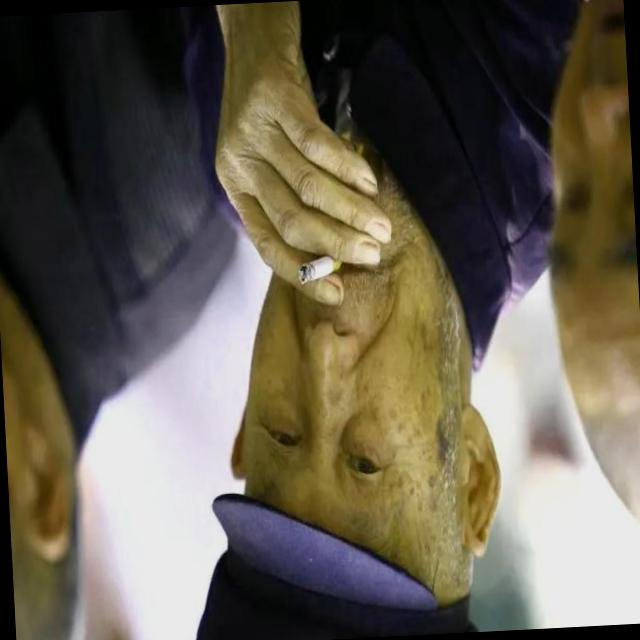smoke: (286, 230, 356, 309)
